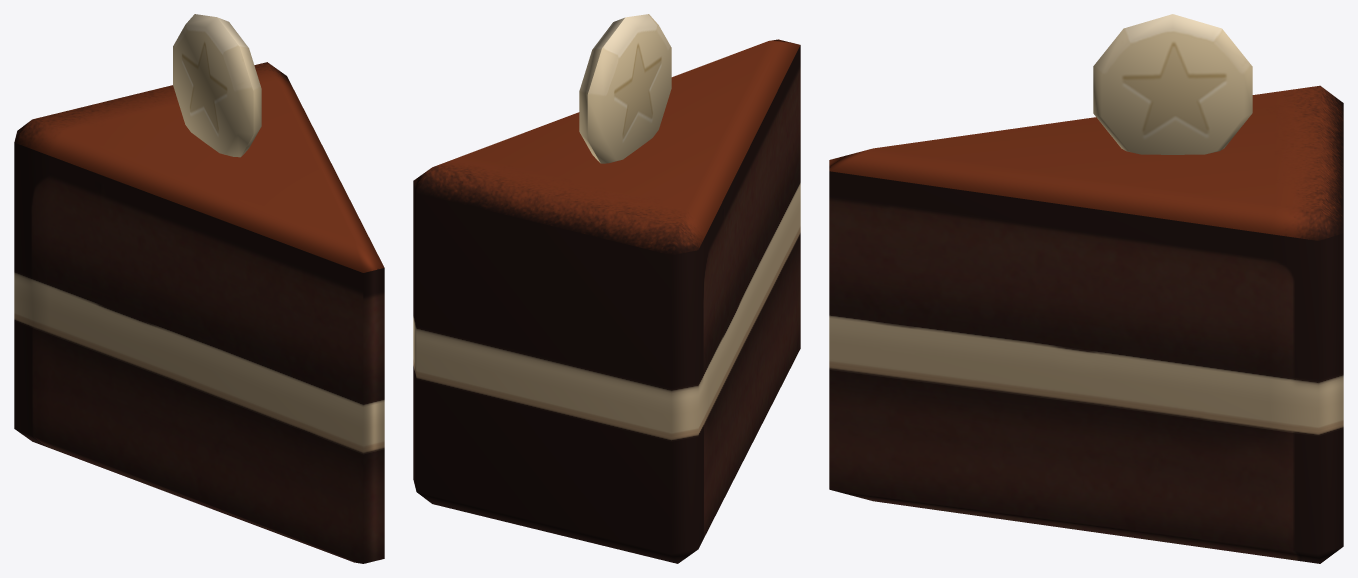
The model's file is DarkChoc_Slice.fbx.
3 renders of one model, left to right at view 1: azimuth 30°, elevation 25°; view 2: azimuth 150°, elevation 25°; view 3: azimuth 270°, elevation 25°, orthographic. The views are drawn at different scales.
Parts seen in each view (by area): view 1: DarkChoc_Slice; view 2: DarkChoc_Slice; view 3: DarkChoc_Slice.
Boxes of the visible parts, x1,y1,x2,y2 form: DarkChoc_Slice: [14, 14, 384, 563]; DarkChoc_Slice: [413, 14, 800, 563]; DarkChoc_Slice: [829, 14, 1343, 563].
Size of the model in its own units: 26.02 by 40.59 by 38.81.
